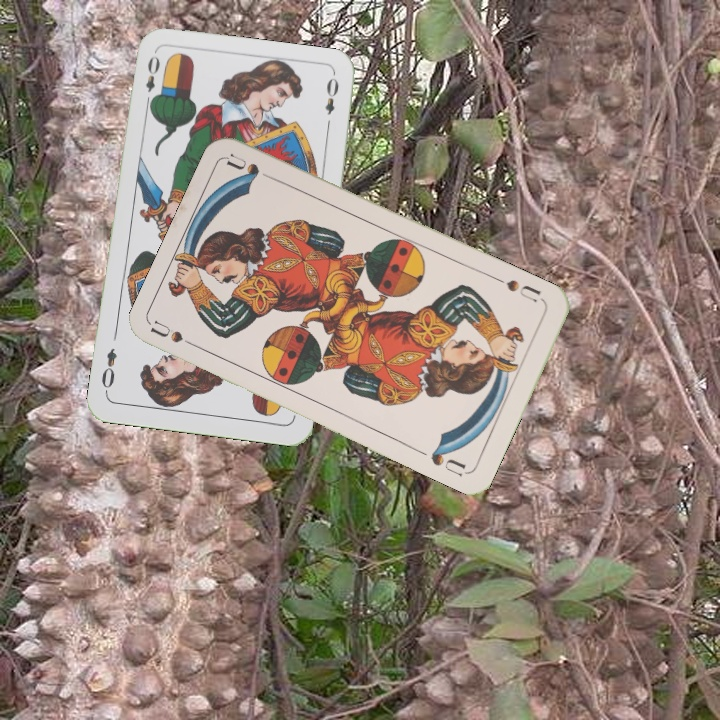EO: (141, 52, 163, 109)
SU: (148, 317, 205, 353), (491, 273, 543, 305)
